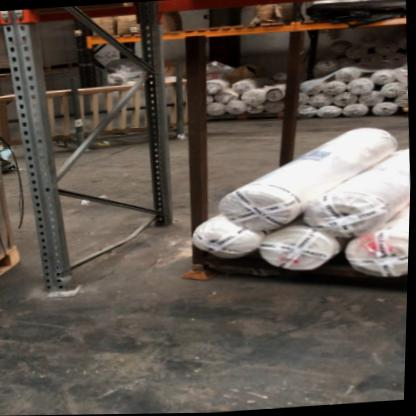vertical_damage: (38, 257, 87, 301)
